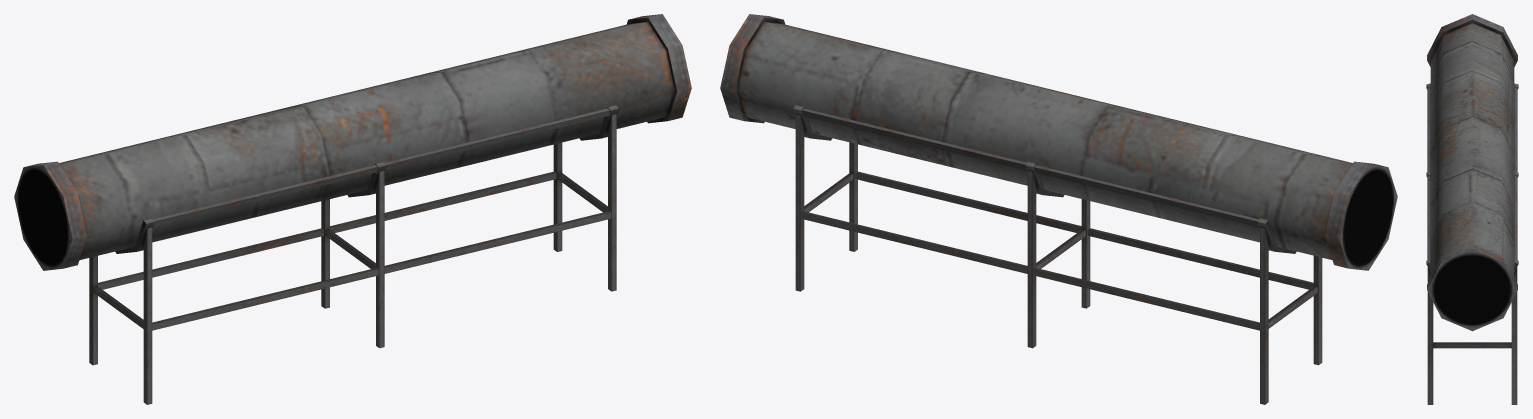
The model's file is Conduit1_LOD1.fbx.
3 views of the same model, side by side, from view 1: azimuth 30°, elevation 25°; view 2: azimuth 150°, elevation 25°; view 3: azimuth 270°, elevation 25° (orthographic). The views are drawn at different scales.
Parts seen in each view (by area): view 1: polySurface91; view 2: polySurface91; view 3: polySurface91.
Boxes of the visible parts, x1,y1,x2,y2 form: polySurface91: (14, 14, 691, 404); polySurface91: (720, 14, 1397, 404); polySurface91: (1426, 14, 1518, 404).
Size of the model in its own units: 8 by 2.93 by 1.33.
